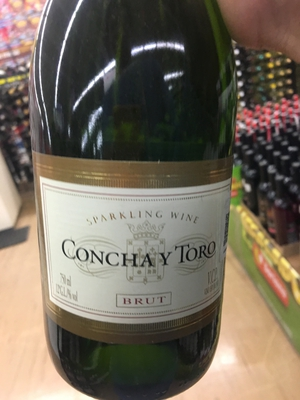brut: (27, 5, 247, 385)
